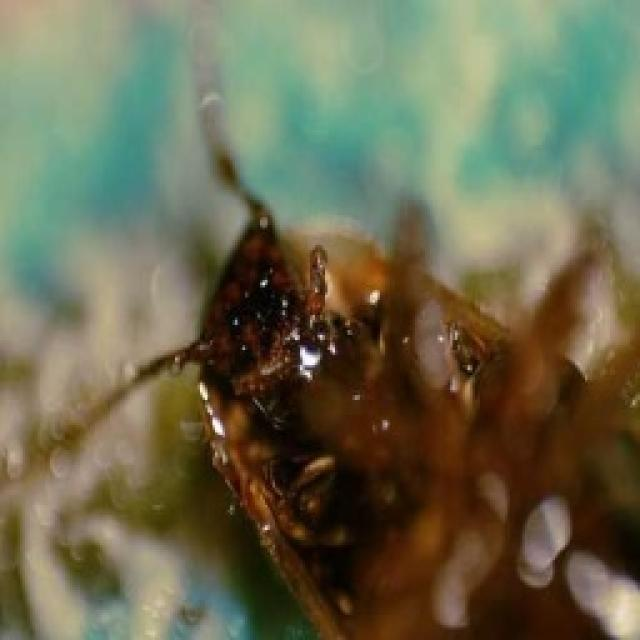cockroach: (76, 97, 639, 639)
